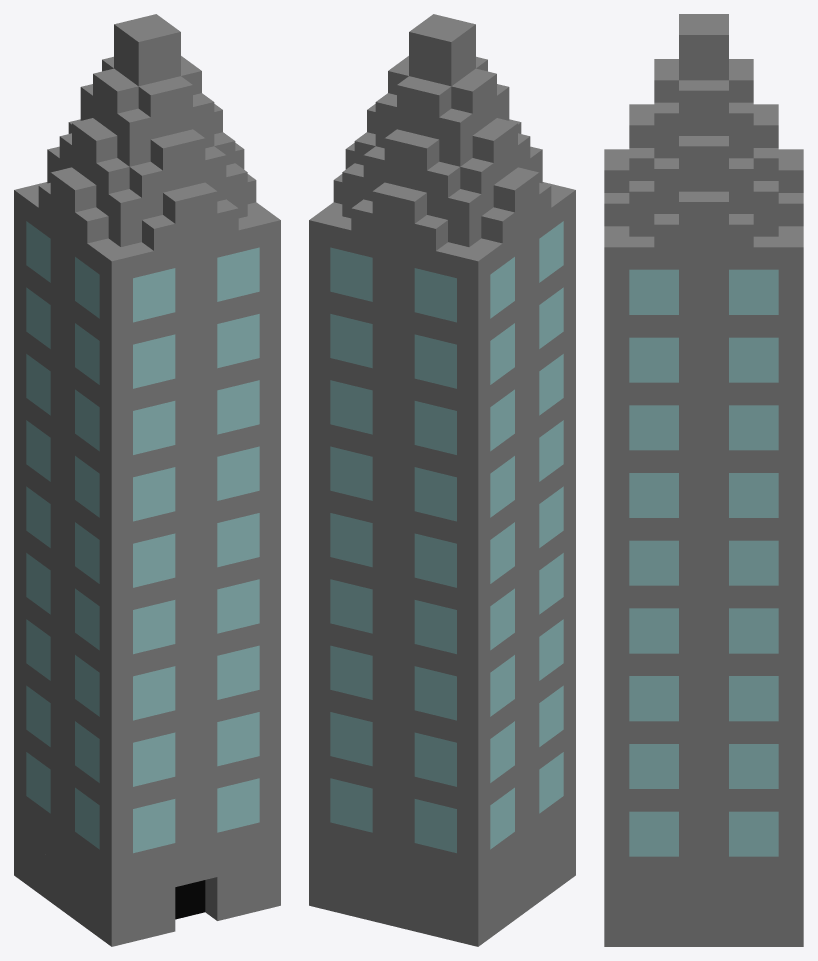
The model's file is bld3.fbx.
3 renders of one model, left to right at view 1: azimuth 30°, elevation 25°; view 2: azimuth 150°, elevation 25°; view 3: azimuth 270°, elevation 25°, orthographic. The views are drawn at different scales.
Parts seen in each view (by area): view 1: Cube.001; view 2: Cube.001; view 3: Cube.001.
Boxes of the visible parts, x1=… form: Cube.001: x1=14, y1=14, x2=280, y2=946; Cube.001: x1=309, y1=14, x2=575, y2=946; Cube.001: x1=604, y1=14, x2=803, y2=946.
Size of the model in its own units: 800 by 3900 by 800.
